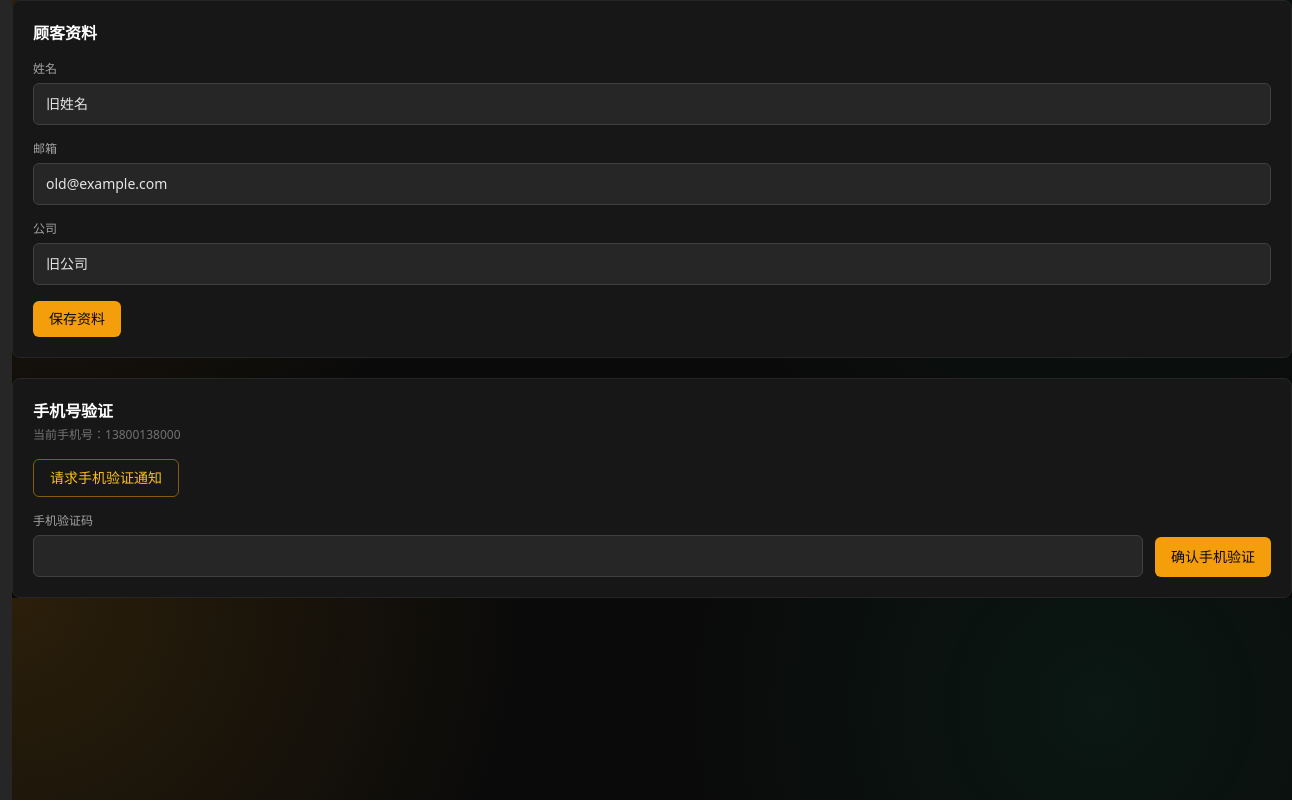
CustomerProfilePanel › confirms a six-digit phone verification code
The width and height of the screenshot is (1292, 800).
Type "123456" into the field labelled "手机验证码" at (588, 556), box [33,535,1143,577]
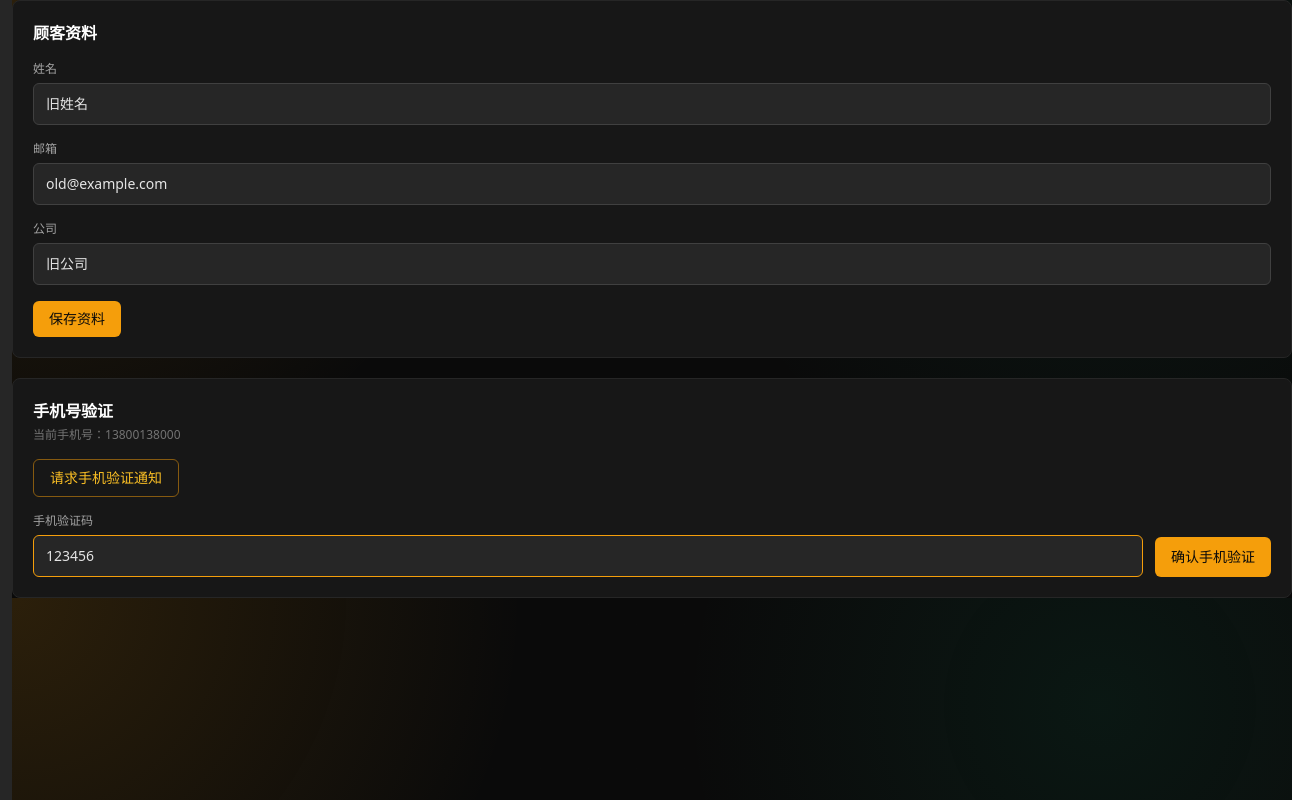
Click the button "确认手机验证" at (1213, 557), box [1155,537,1271,577]
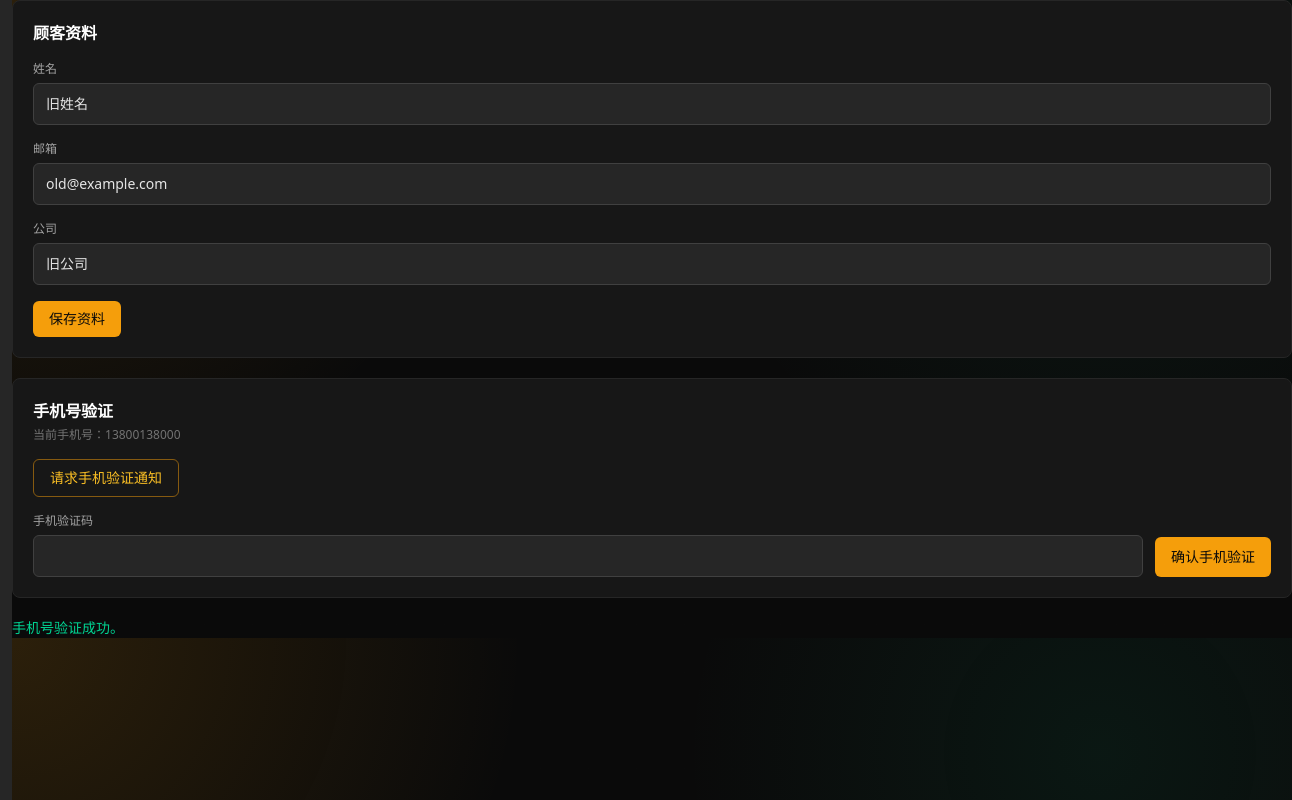
expect the message reads "手机号验证成功。": met, box [12,618,124,637]
